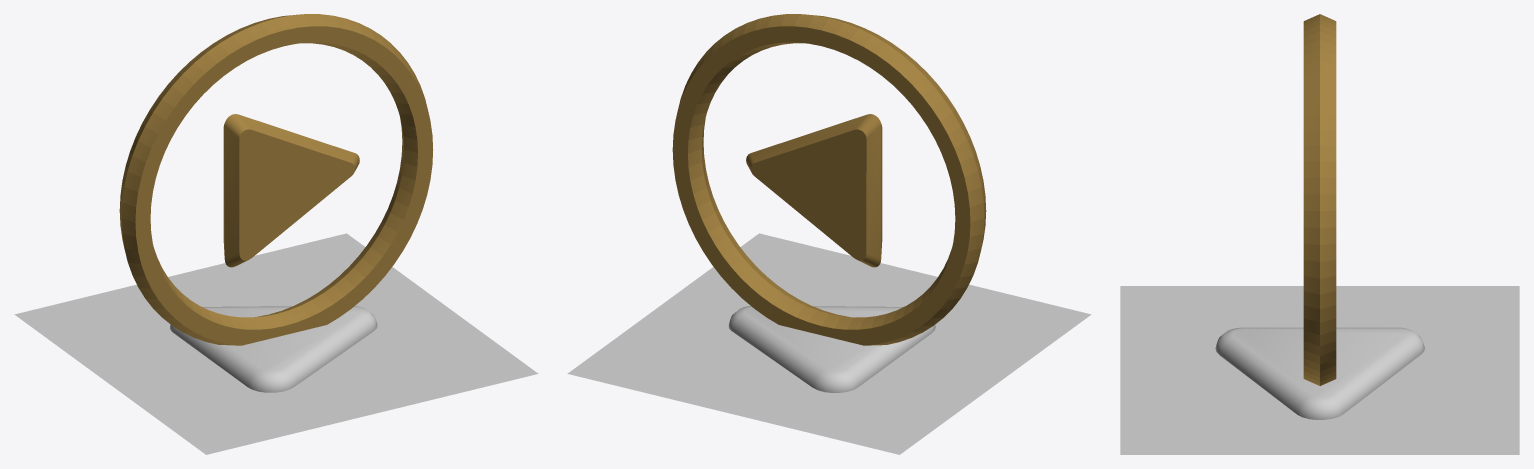
The model's file is PlayButton.DAE.
3 views of the same model, side by side, from view 1: azimuth 30°, elevation 25°; view 2: azimuth 150°, elevation 25°; view 3: azimuth 270°, elevation 25° (orthographic). The views are drawn at different scales.
Parts seen in each view (by area): view 1: Plane001, Circle002, Line005, Line004; view 2: Plane001, Circle002, Line005, Line004; view 3: Plane001, Circle002, Line004.
Boxes of the visible parts, bbox=[...] form: Plane001: bbox=[14, 233, 538, 454]; Circle002: bbox=[119, 14, 433, 345]; Line005: bbox=[223, 114, 359, 267]; Line004: bbox=[170, 306, 377, 392]; Plane001: bbox=[567, 233, 1091, 454]; Circle002: bbox=[672, 14, 986, 345]; Line005: bbox=[746, 114, 882, 267]; Line004: bbox=[728, 306, 935, 392]; Plane001: bbox=[1120, 286, 1519, 454]; Circle002: bbox=[1303, 14, 1336, 385]; Line004: bbox=[1215, 327, 1424, 419].
Size of the model in its own units: 100 by 97.87 by 100.
